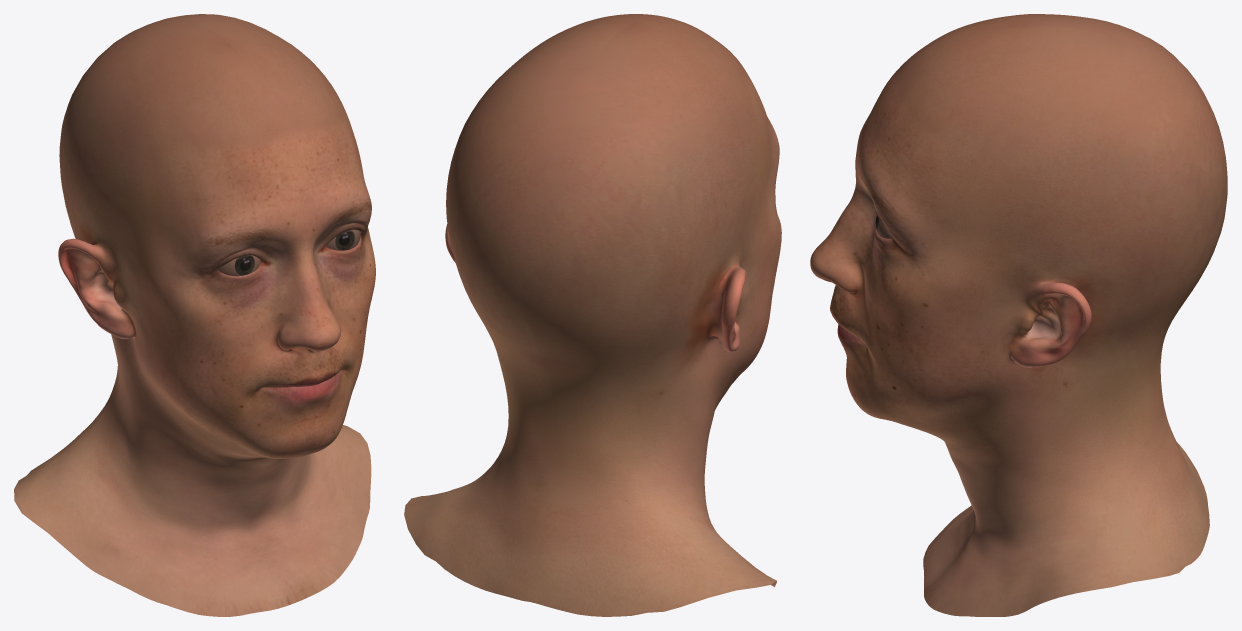
Rendered from full.gltf.
The picture shows the model from 3 angles, left to right: view 1: azimuth 30°, elevation 25°; view 2: azimuth 150°, elevation 25°; view 3: azimuth 270°, elevation 25°; orthographic projection. The views are drawn at different scales.
Visible parts, largest first — view 1: Face, EyeRight, EyeLeft; view 2: Face; view 3: Face.
Boxes of the visible parts, box(x1,y1,x2,y2) form: Face: box(14, 14, 375, 616); EyeRight: box(218, 255, 260, 276); EyeLeft: box(326, 229, 360, 250); Face: box(404, 14, 781, 616); Face: box(810, 14, 1227, 616).
Bounding box in the file's own units: 1.23 × 1.86 × 1.26.
Materials: 3 (3 with a texture image).
